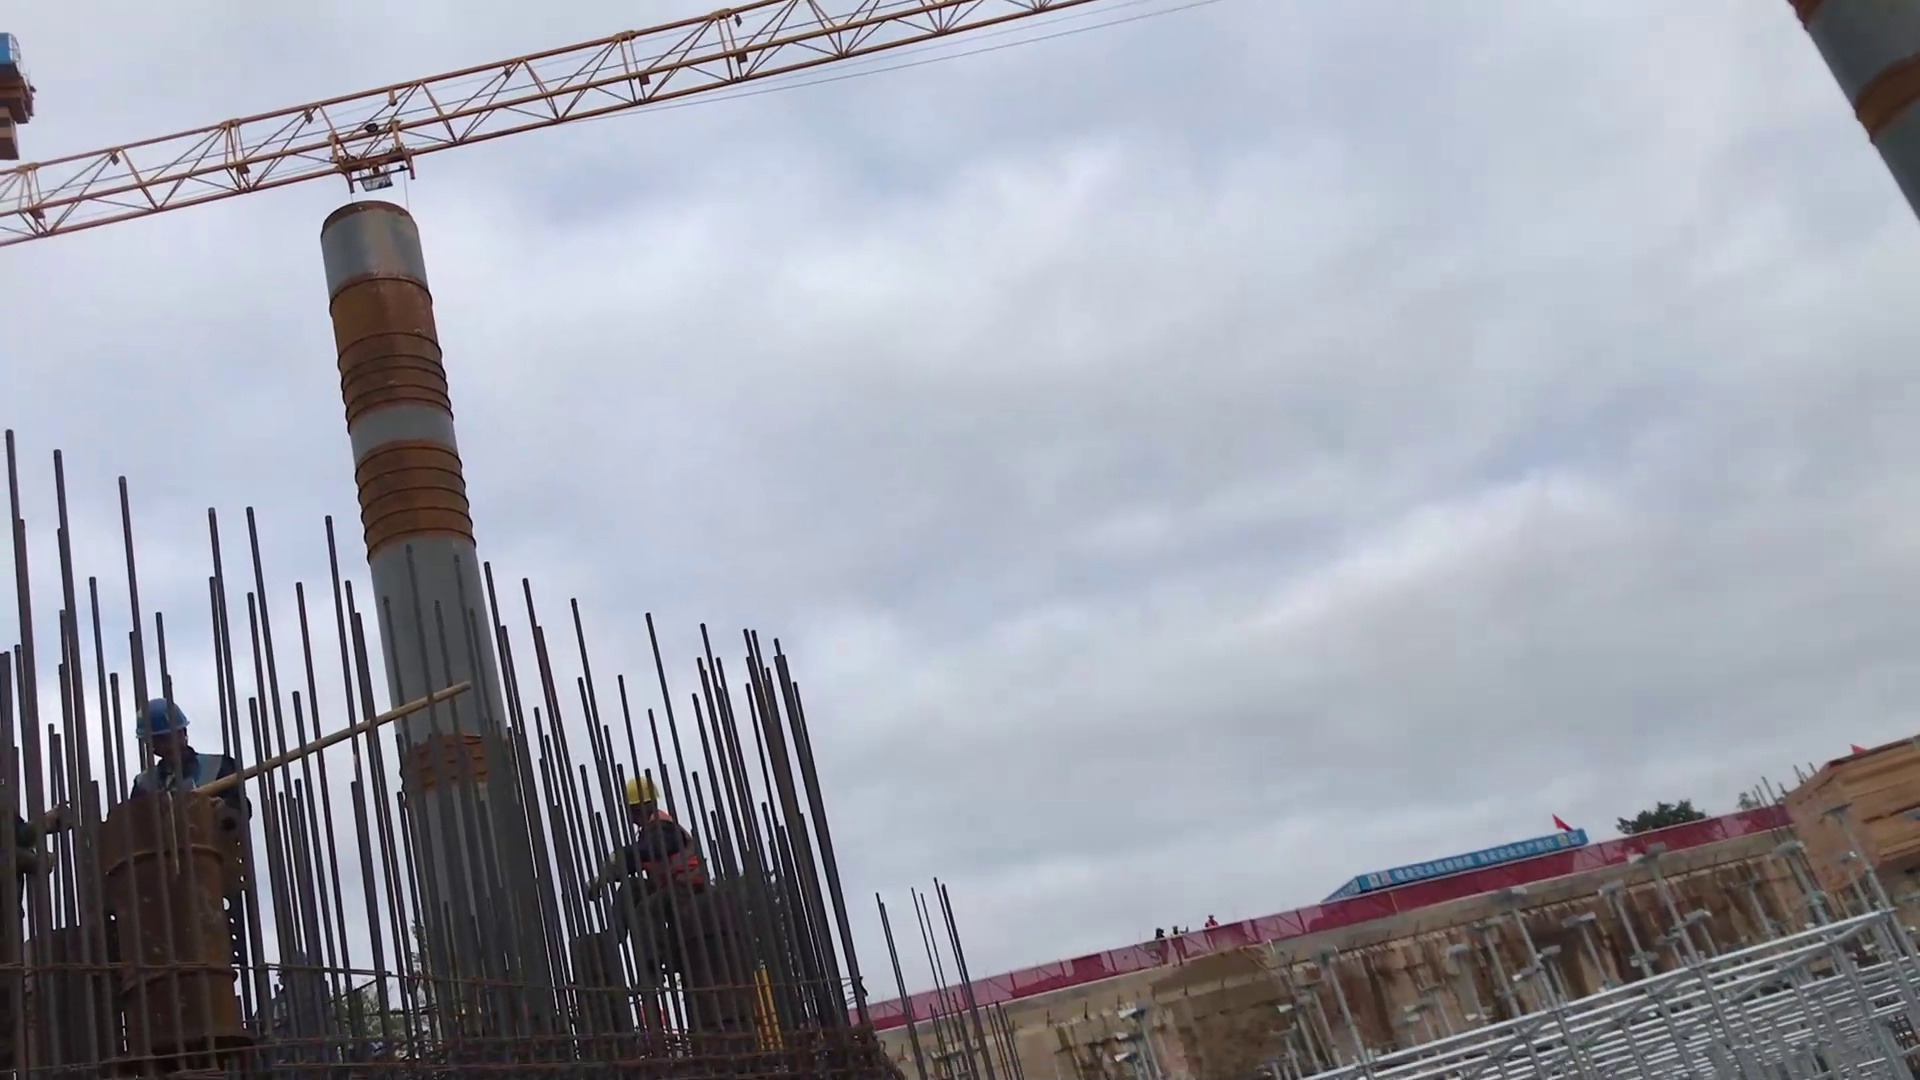helmet: (134, 699, 192, 743), (621, 773, 662, 813)
person: (601, 770, 729, 898), (121, 697, 256, 801)
slogan: (1353, 828, 1596, 895)
